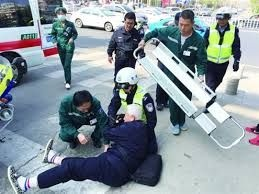falling: (2, 99, 167, 194)
